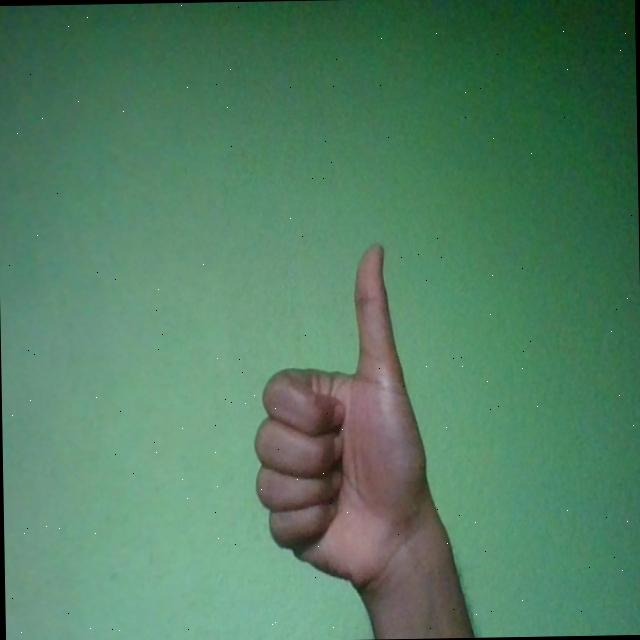Good Job: (248, 244, 428, 596)
